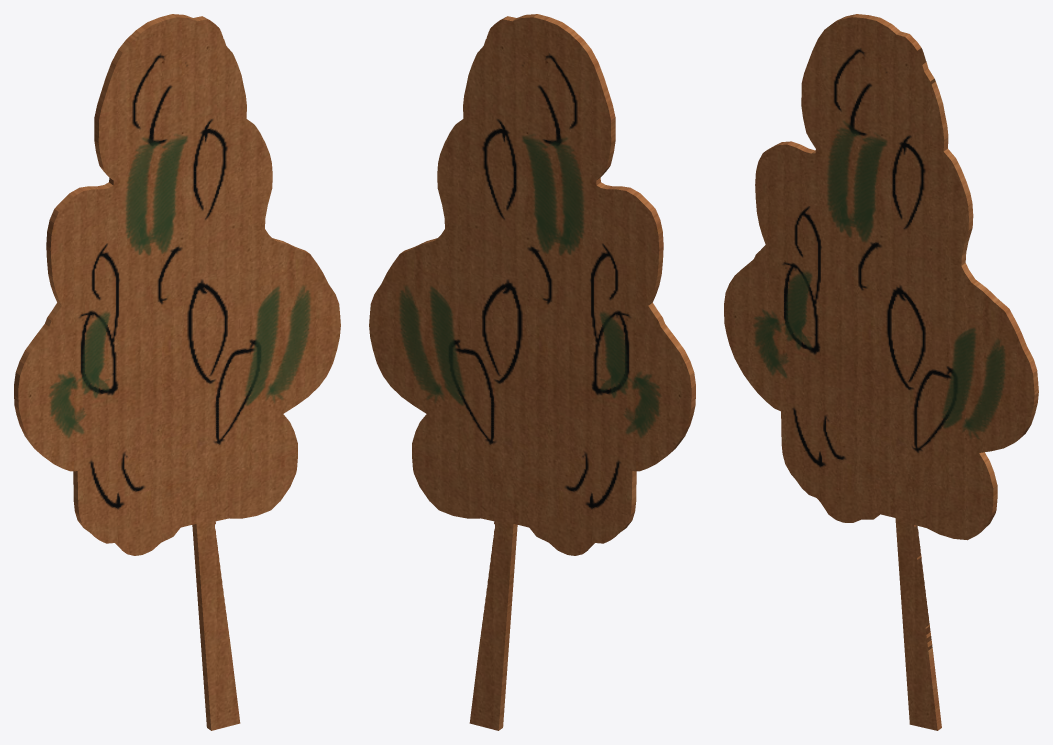
File: tree_2.FBX
3 renders of one model, left to right at view 1: azimuth 30°, elevation 25°; view 2: azimuth 150°, elevation 25°; view 3: azimuth 330°, elevation 25°, orthographic. The views are drawn at different scales.
Visible parts, largest first — view 1: tree_2; view 2: tree_2; view 3: tree_2.
Boxes of the visible parts, box(x1,y1,x2,y2) form: tree_2: box(14, 14, 340, 730); tree_2: box(369, 14, 695, 730); tree_2: box(724, 14, 1038, 730).
Bounding box in the file's own units: 293 × 628 × 7.
Materials: 1 (1 with a texture image).
